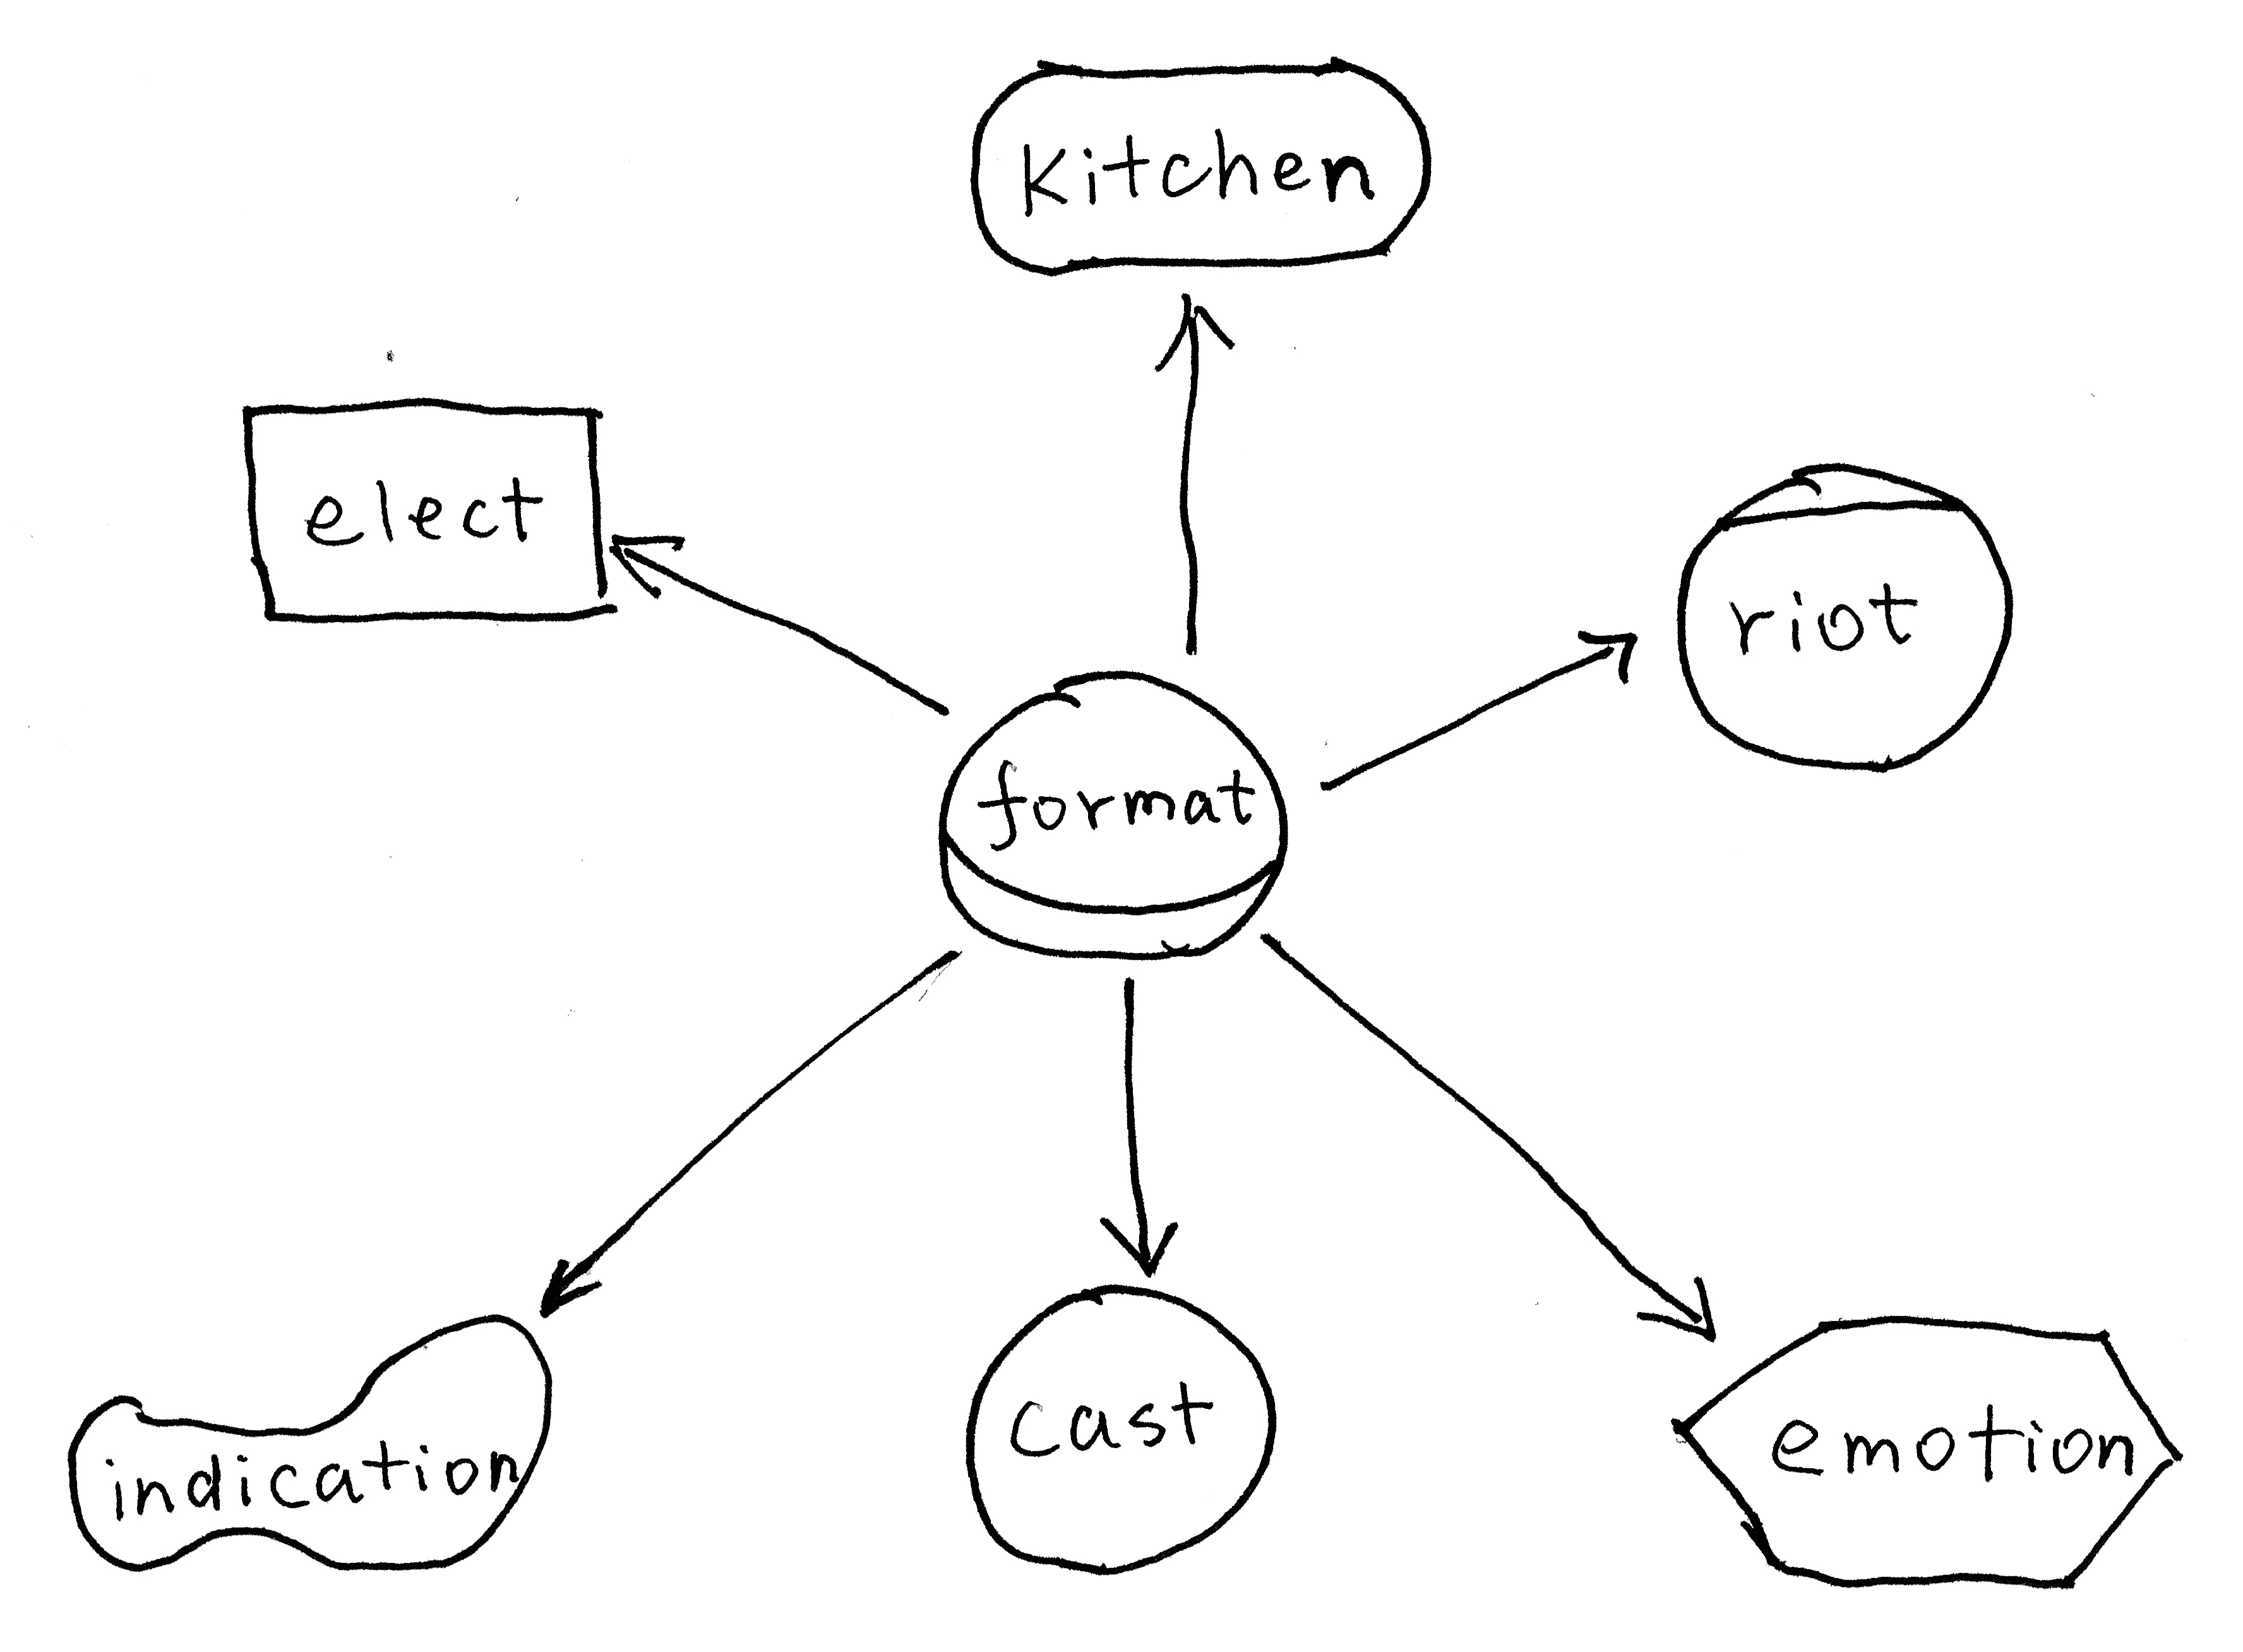actor: (949, 1262, 1306, 1593)
agent: (1651, 439, 2034, 794)
arrow: (1627, 1252, 1745, 1363), (1555, 604, 1661, 702), (1148, 277, 1243, 383), (592, 515, 700, 609), (1081, 1205, 1202, 1288), (528, 1246, 616, 1332)
goal: (951, 40, 1463, 292)
quality: (33, 1290, 578, 1589)
resource: (211, 378, 637, 644)
role: (918, 644, 1306, 980)
task: (1649, 1297, 2199, 1605)
